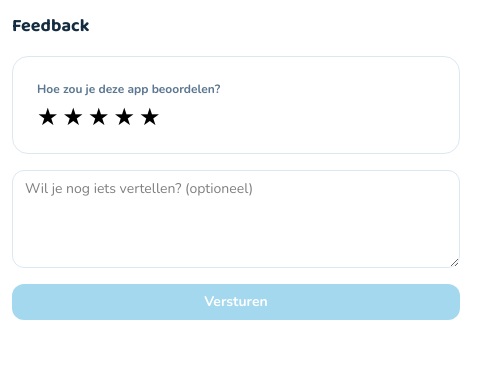
Test: Feedback › shows a thank-you message and resets the form on success
This screenshot has width=477, height=373.
Click the button named "5 van de 5 sterren". click: (150, 117)
box: [139,105,161,129]
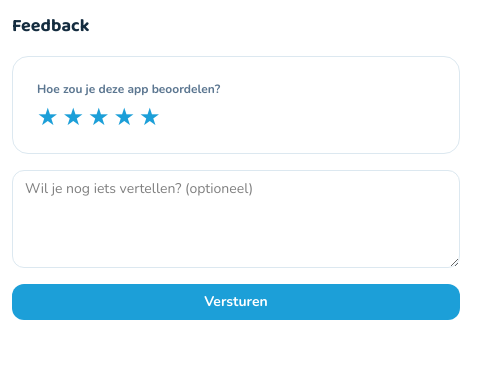
Click the button "Versturen". click: (236, 302)
box: [12,284,460,320]
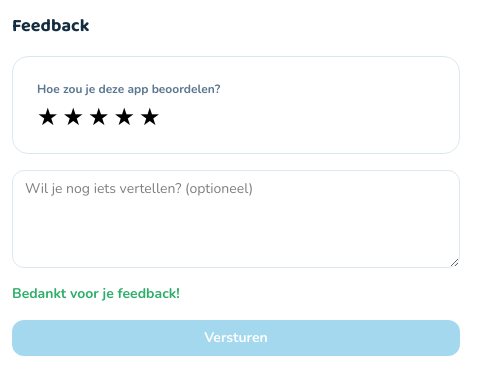
Expected: the text "Bedankt voor je feedback!" is shown, [12,284,180,303]
